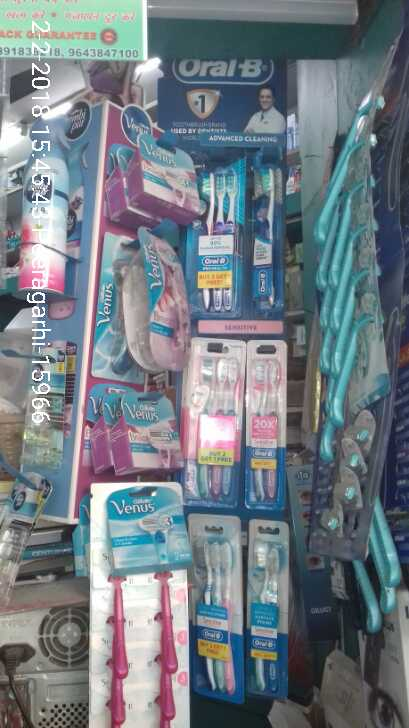beauty: (89, 480, 192, 728), (99, 374, 187, 480), (130, 224, 189, 368), (121, 131, 197, 218)
home: (18, 143, 78, 303)
pharmacy: (197, 154, 247, 319), (189, 538, 238, 692), (196, 341, 237, 502), (249, 540, 282, 696), (251, 352, 279, 507), (251, 163, 278, 312)
